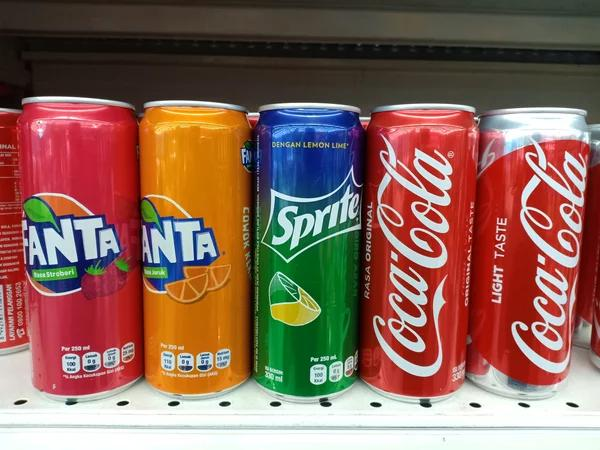metal: (13, 92, 144, 403), (138, 95, 255, 402), (475, 100, 592, 406), (365, 99, 472, 411), (252, 99, 364, 394)
